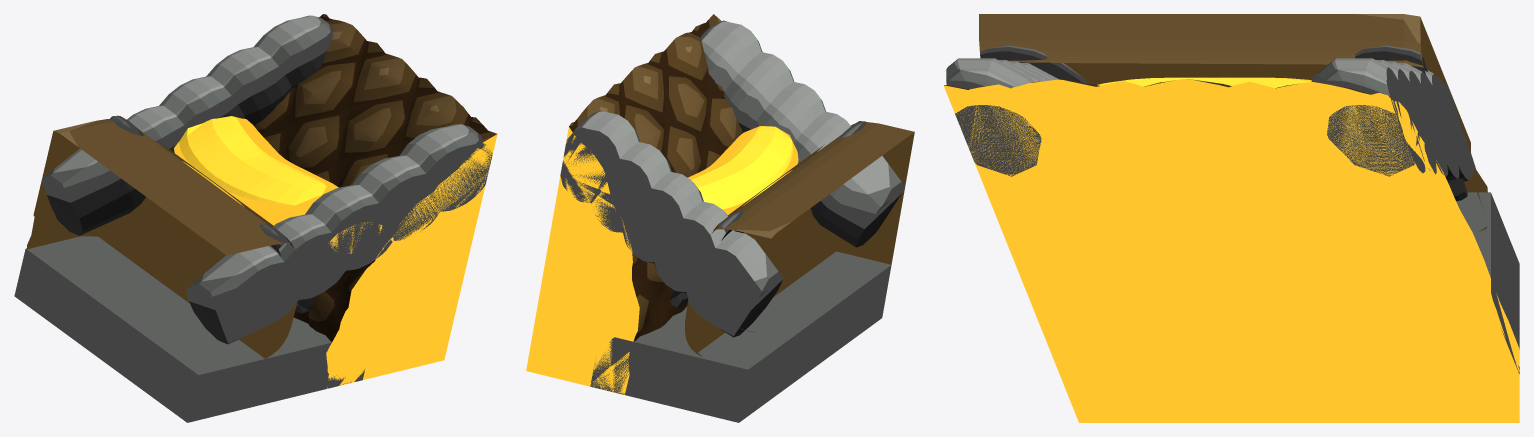
File: pineapple_195.glb
3 renders of one model, left to right at view 1: azimuth 30°, elevation 25°; view 2: azimuth 150°, elevation 25°; view 3: azimuth 270°, elevation 25°, orthographic. The views are drawn at different scales.
Visible parts, largest first — view 1: pineapple_195; view 2: pineapple_195; view 3: pineapple_195.
Boxes of the visible parts, left/top/right/bottom form: pineapple_195: left=14, top=14, right=497, bottom=422; pineapple_195: left=526, top=14, right=914, bottom=422; pineapple_195: left=943, top=14, right=1519, bottom=422.
Bounding box in the file's own units: 24 × 24.14 × 36.62.
